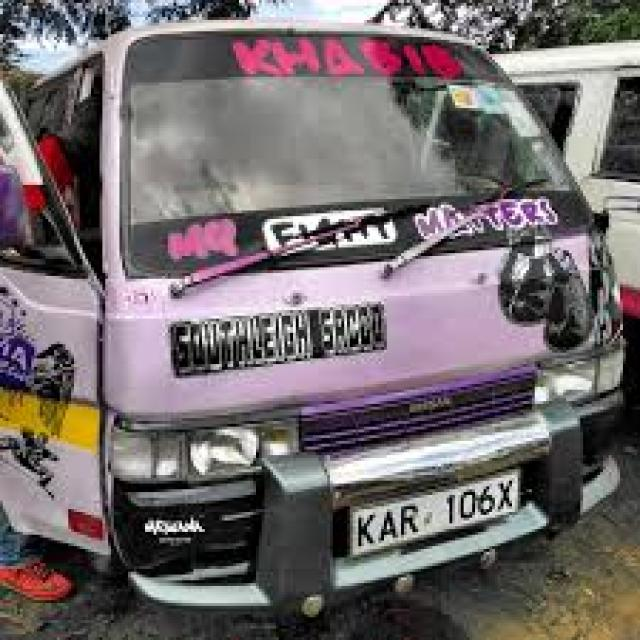matatu: (10, 17, 640, 626)
